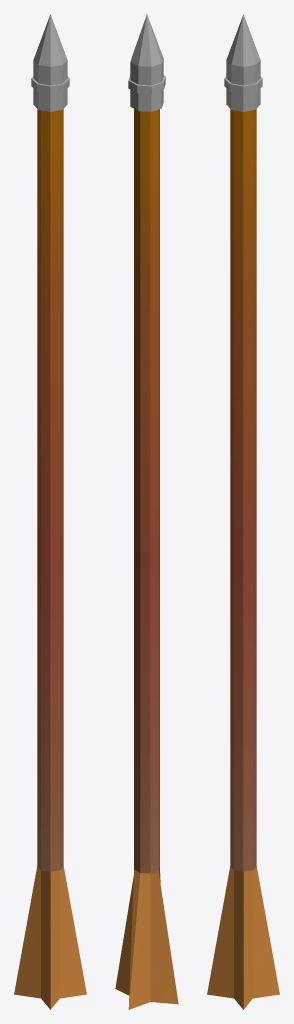
The model's file is Arrow.fbx.
The picture shows the model from 3 angles, left to right: view 1: azimuth 90°, elevation 25°; view 2: azimuth 150°, elevation 25°; view 3: azimuth 270°, elevation 25°; orthographic projection.
Visible parts, largest first — view 1: Arrow; view 2: Arrow; view 3: Arrow.
Boxes of the visible parts, x1,y1,x2,y2 form: Arrow: [14, 14, 86, 1009]; Arrow: [115, 14, 178, 1009]; Arrow: [207, 14, 279, 1009].
Bounding box in the file's own units: 4.45 × 65.97 × 4.45.
